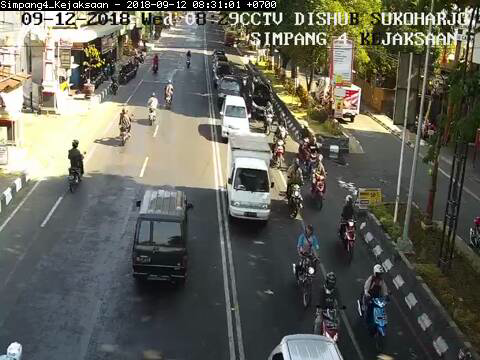motor: (357, 264, 393, 349), (290, 222, 322, 309), (313, 270, 346, 349), (336, 192, 360, 264), (308, 152, 328, 212), (284, 157, 304, 216), (268, 121, 286, 169)
